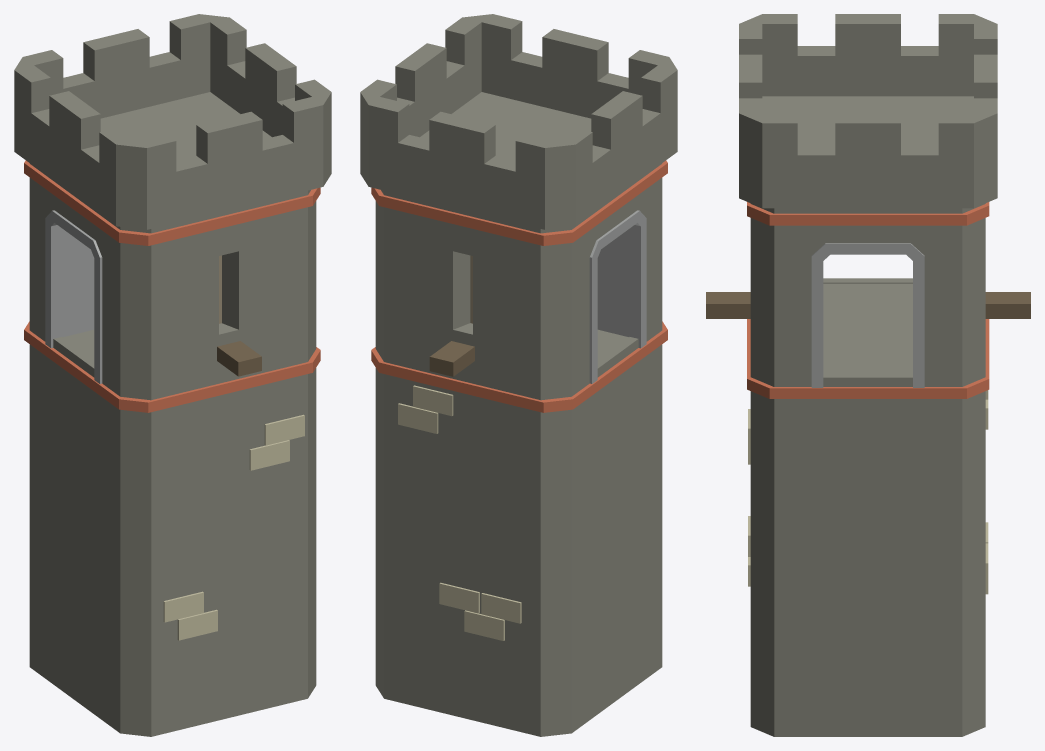
Rendered from Tower_2.fbx.
The picture shows the model from 3 angles, left to right: view 1: azimuth 30°, elevation 25°; view 2: azimuth 150°, elevation 25°; view 3: azimuth 270°, elevation 25°; orthographic projection. The views are drawn at different scales.
Parts seen in each view (by area): view 1: Tower_2; view 2: Tower_2; view 3: Tower_2.
Boxes of the visible parts, left/top/right/bottom form: Tower_2: left=14, top=14, right=331, bottom=736; Tower_2: left=360, top=14, right=677, bottom=736; Tower_2: left=706, top=14, right=1030, bottom=736.
Size of the model in its own units: 88 by 232 by 110.
Materials: 1 (1 with a texture image).
